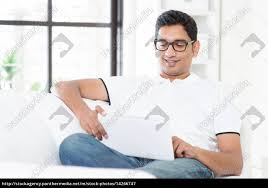Indian_Male: (145, 20, 192, 78)
